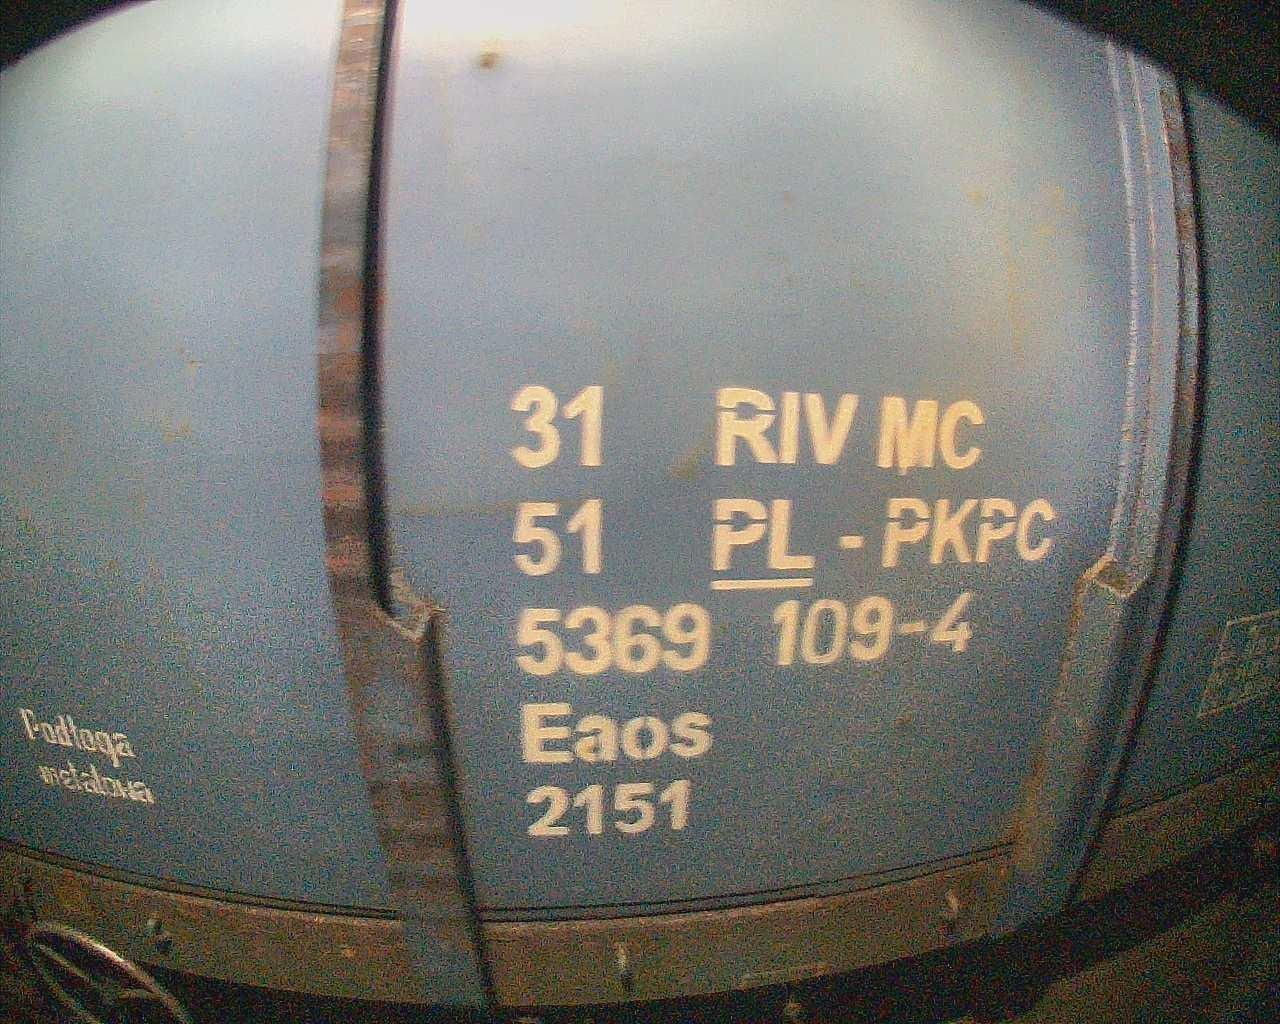UIC: (496, 372, 1063, 852)
